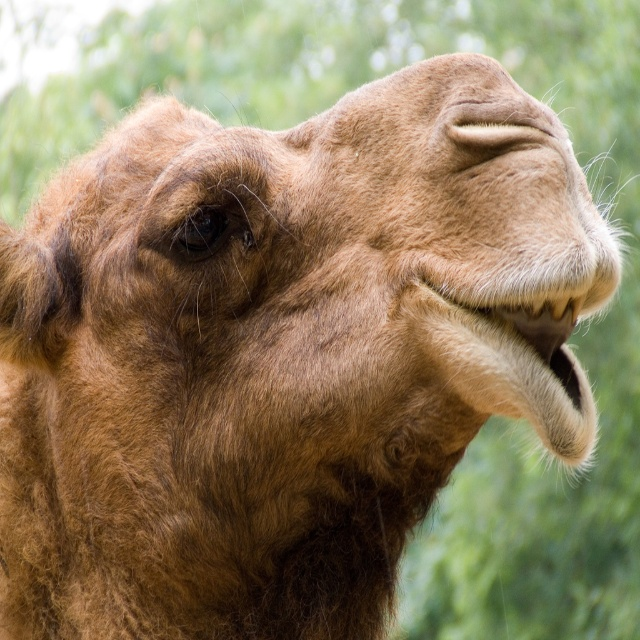Camel: (0, 49, 639, 639)
